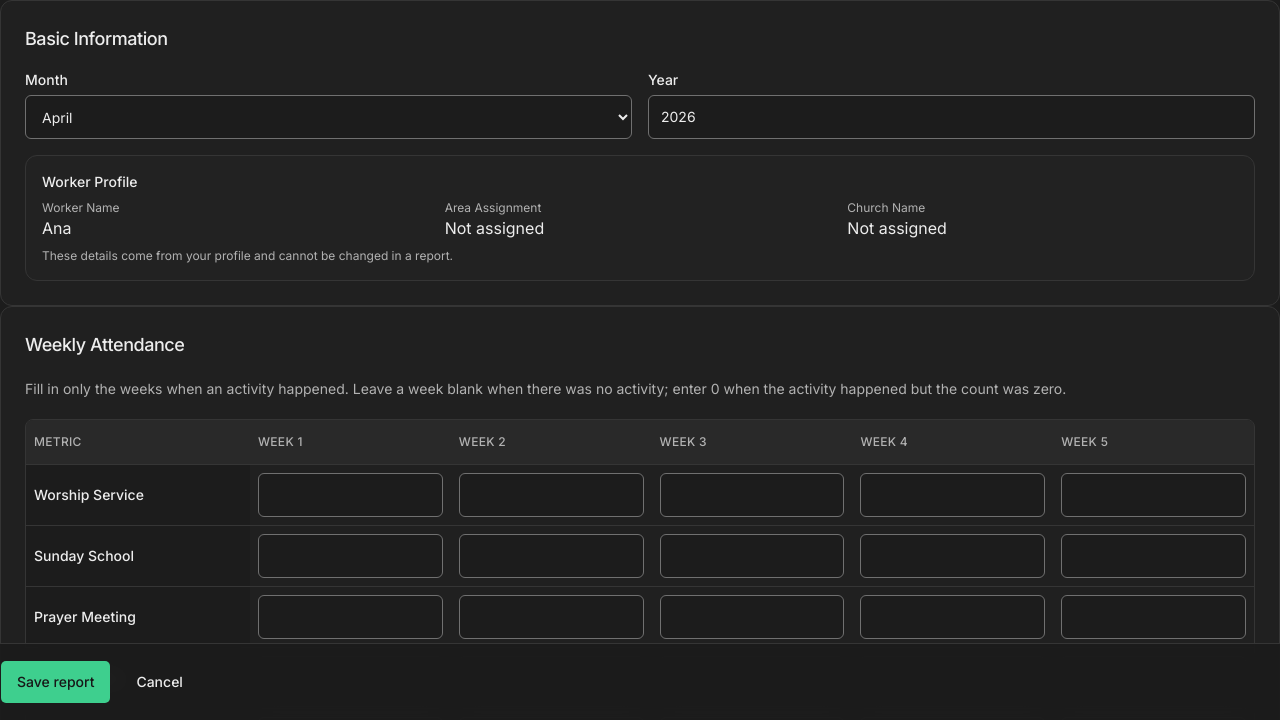
Test: ReportForm › shows the server's previous-month 422 on the month field
Click the button "Save report" at (56,682), box [0,660,111,704]
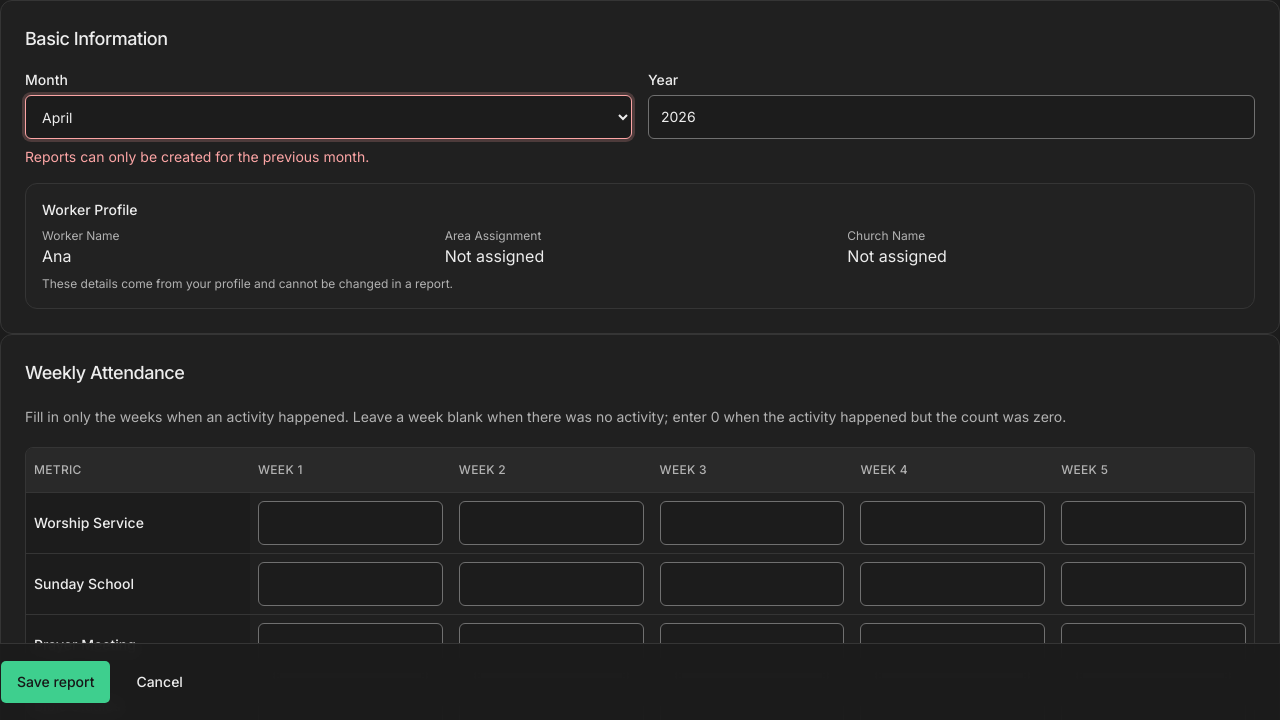
Expected: the text "Reports can only be created for the previous month." is shown, [25,148,369,165]
